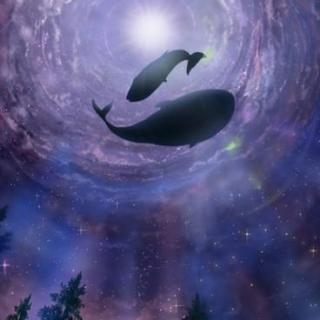fish: (85, 87, 243, 146), (123, 45, 207, 104)
